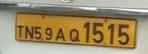1: (105, 22, 115, 43), (82, 21, 90, 42)
5: (116, 22, 130, 44), (91, 21, 104, 42), (33, 25, 42, 39)
9: (43, 26, 52, 39)
A: (54, 26, 65, 40)
N: (24, 24, 33, 38)
Q: (68, 27, 80, 41)
T: (15, 23, 24, 37)
